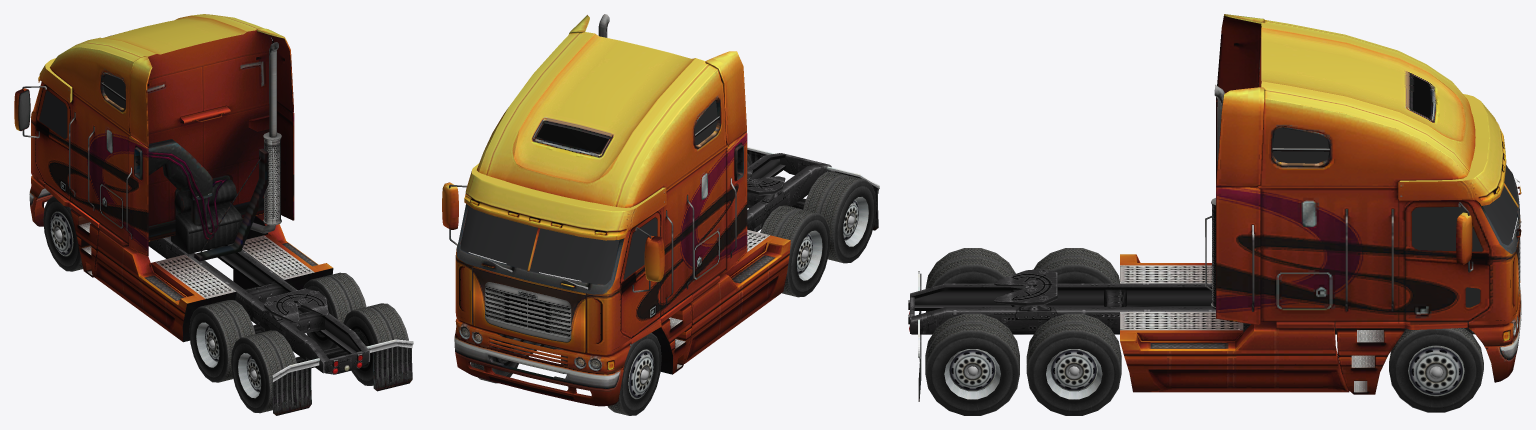
The model's file is car3.glb.
The picture shows the model from 3 angles, left to right: view 1: azimuth 30°, elevation 25°; view 2: azimuth 150°, elevation 25°; view 3: azimuth 270°, elevation 25°; orthographic projection. The views are drawn at different scales.
Visible parts, largest first — view 1: Object_3, Object_9, Object_2, Object_8, Object_5, Object_7; view 2: Object_3, Object_9, Object_7, Object_2, Object_5, Object_8, Object_4; view 3: Object_3, Object_9, Object_2, Object_8, Object_7, Object_5.
Boxes of the visible parts, bbox=[...] form: Object_3: bbox=[14, 14, 413, 415]; Object_9: bbox=[43, 196, 408, 413]; Object_2: bbox=[148, 236, 369, 374]; Object_8: bbox=[50, 211, 261, 398]; Object_5: bbox=[250, 42, 281, 233]; Object_7: bbox=[39, 74, 125, 138]; Object_3: bbox=[442, 15, 879, 406]; Object_9: bbox=[470, 153, 876, 415]; Object_7: bbox=[460, 101, 717, 284]; Object_2: bbox=[506, 153, 831, 373]; Object_5: bbox=[485, 14, 609, 342]; Object_8: bbox=[628, 197, 868, 399]; Object_4: bbox=[456, 199, 614, 370]; Object_3: bbox=[918, 14, 1521, 401]; Object_9: bbox=[925, 248, 1483, 415]; Object_2: bbox=[910, 269, 1474, 334]; Object_8: bbox=[944, 345, 1464, 399]; Object_7: bbox=[1273, 128, 1517, 307]; Object_5: bbox=[1205, 84, 1520, 309].
Bounding box in the file's own units: 3.26 × 4.09 × 7.08.
8 materials, 6 textured.
